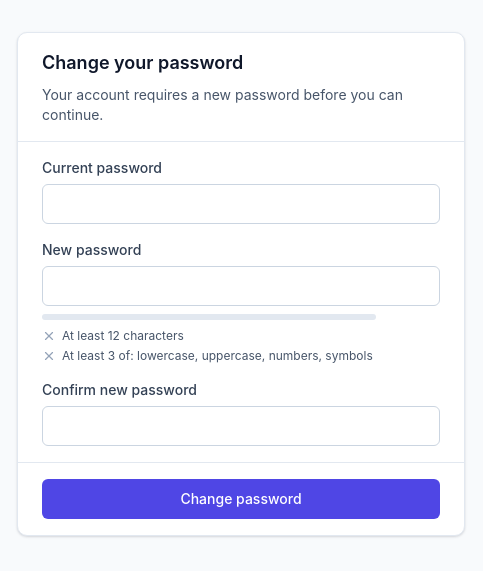
ChangePasswordPage › TC-11: reusing one of the last 5 passwords renders the server error clearly
Expected: the text "Your account requires a new password before you can continue." is shown, top-left (42, 85), bottom-right (440, 125)
Step 1. Type "OldPassword1!" into the password field labelled "Current password" → (241, 204), box top-left (42, 184), bottom-right (440, 224)
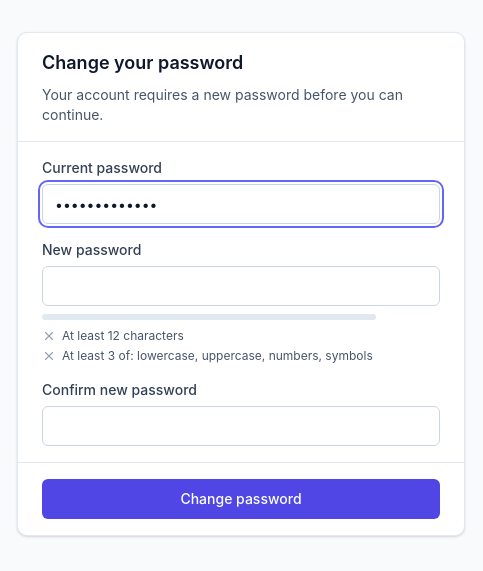
Step 2. Type "CorrectHorse1!" into the password field labelled "New password" → (241, 286), box top-left (42, 266), bottom-right (440, 306)
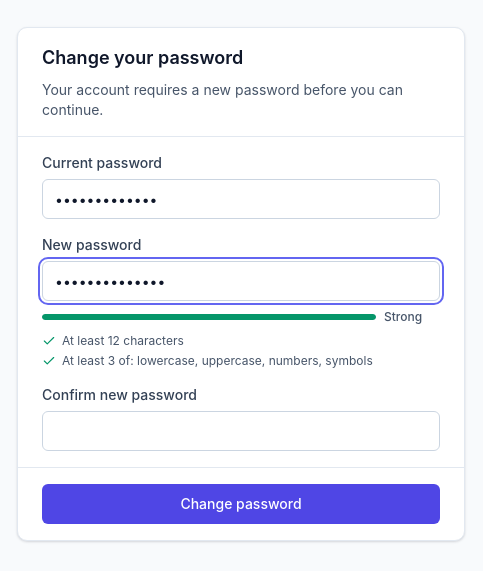
Step 3. Type "CorrectHorse1!" into the password field labelled "Confirm new password" → (241, 431), box top-left (42, 411), bottom-right (440, 451)
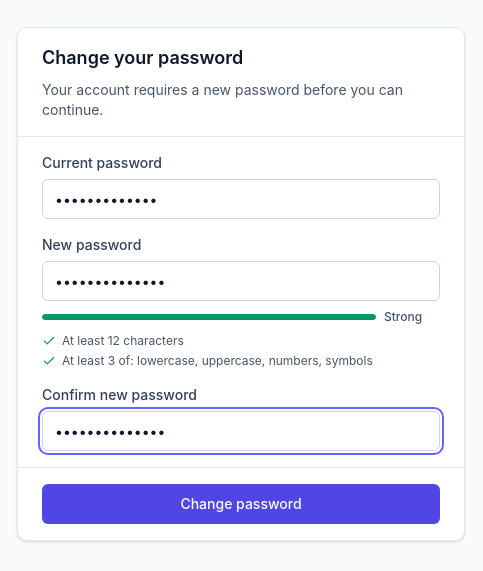
Step 4. Click the button "Change password" → (241, 504), box top-left (42, 484), bottom-right (440, 524)
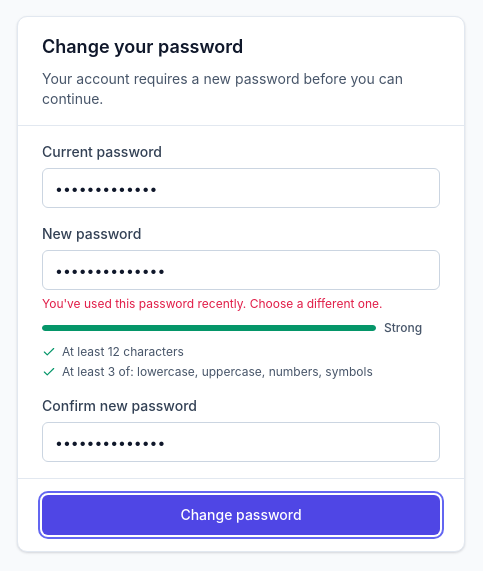
Expected: the text "You've used this password recently. Choose a different one." is shown, top-left (42, 296), bottom-right (440, 312)
